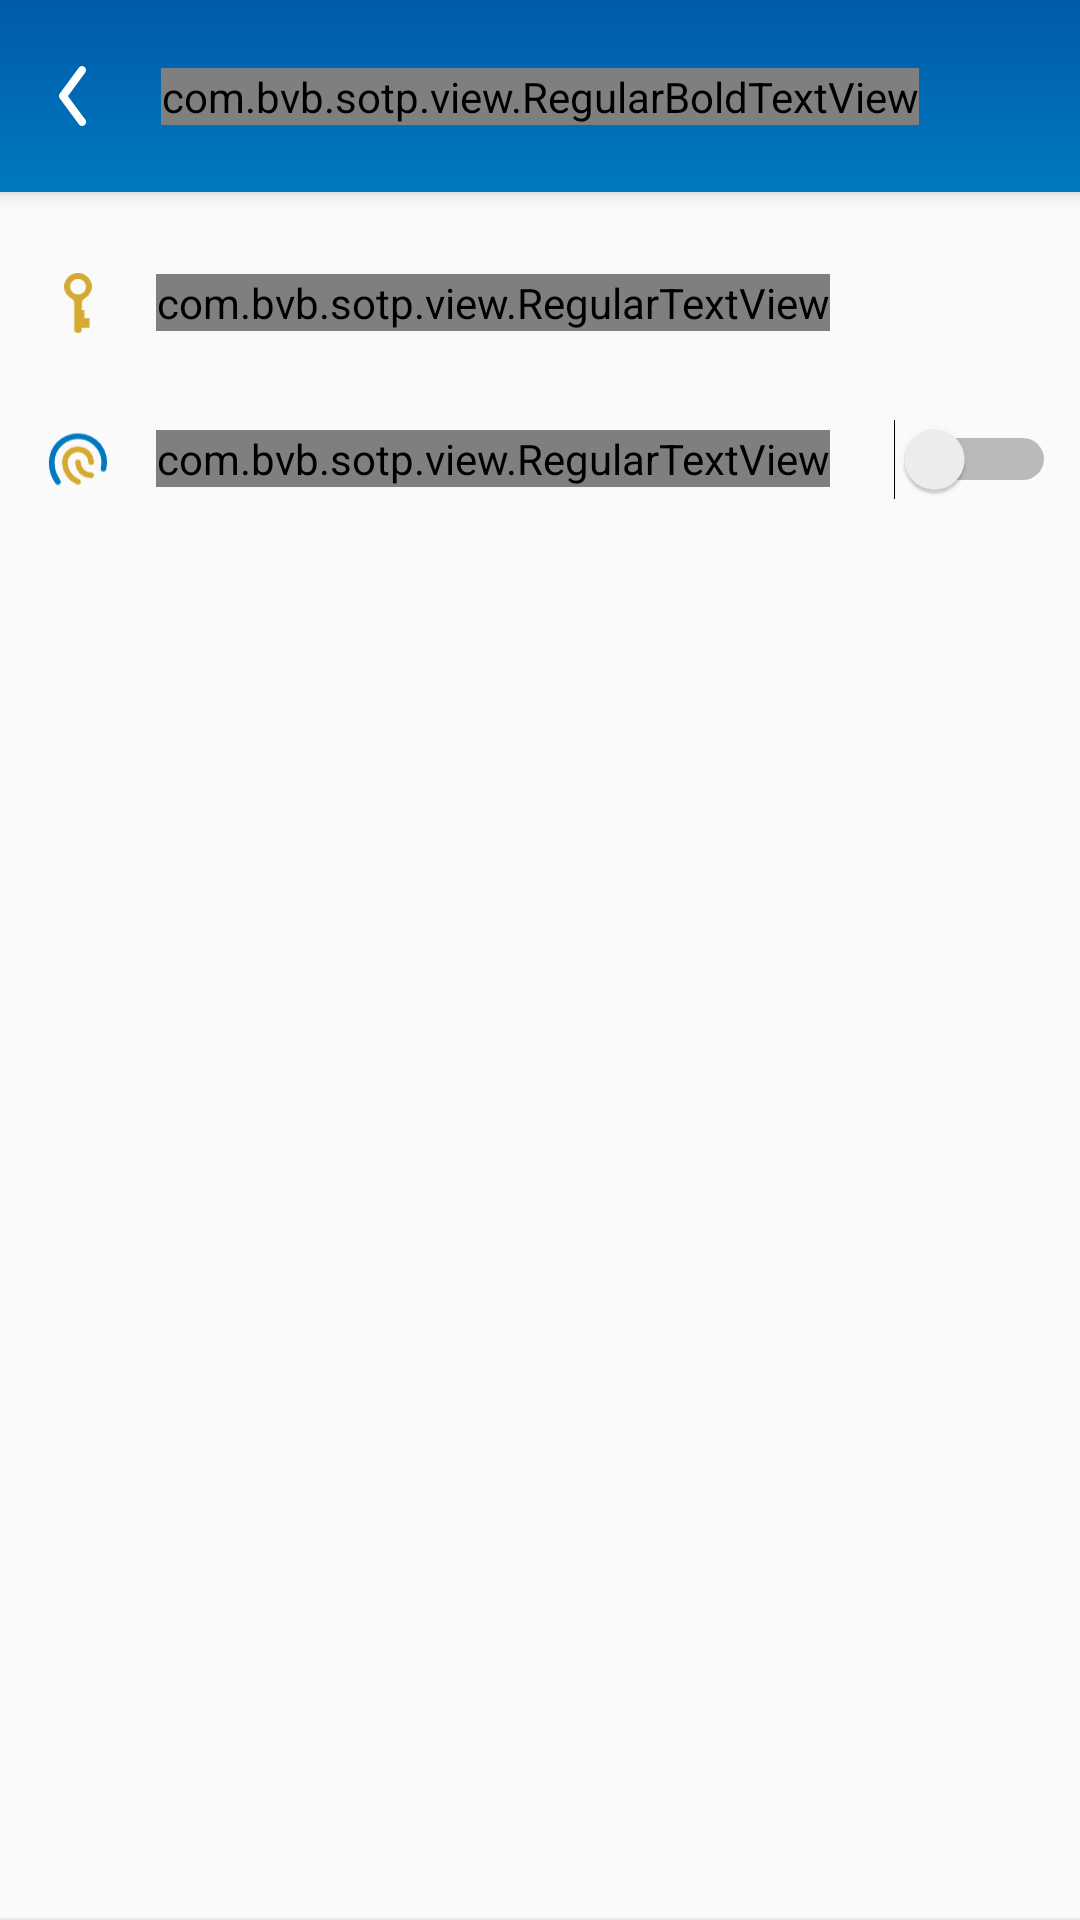

Screen size 1080w x 1920h. Icon name, then its center in pixels as point (x, y):
change pin: point (78, 303)
van tay: point (78, 459)
